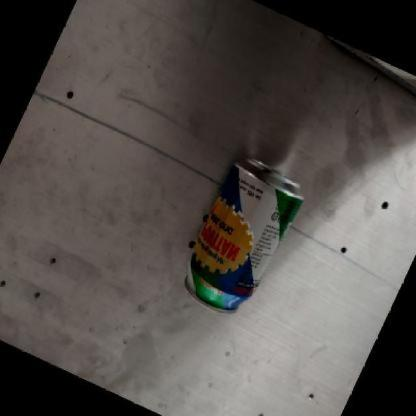Can: (184, 158, 304, 316)
